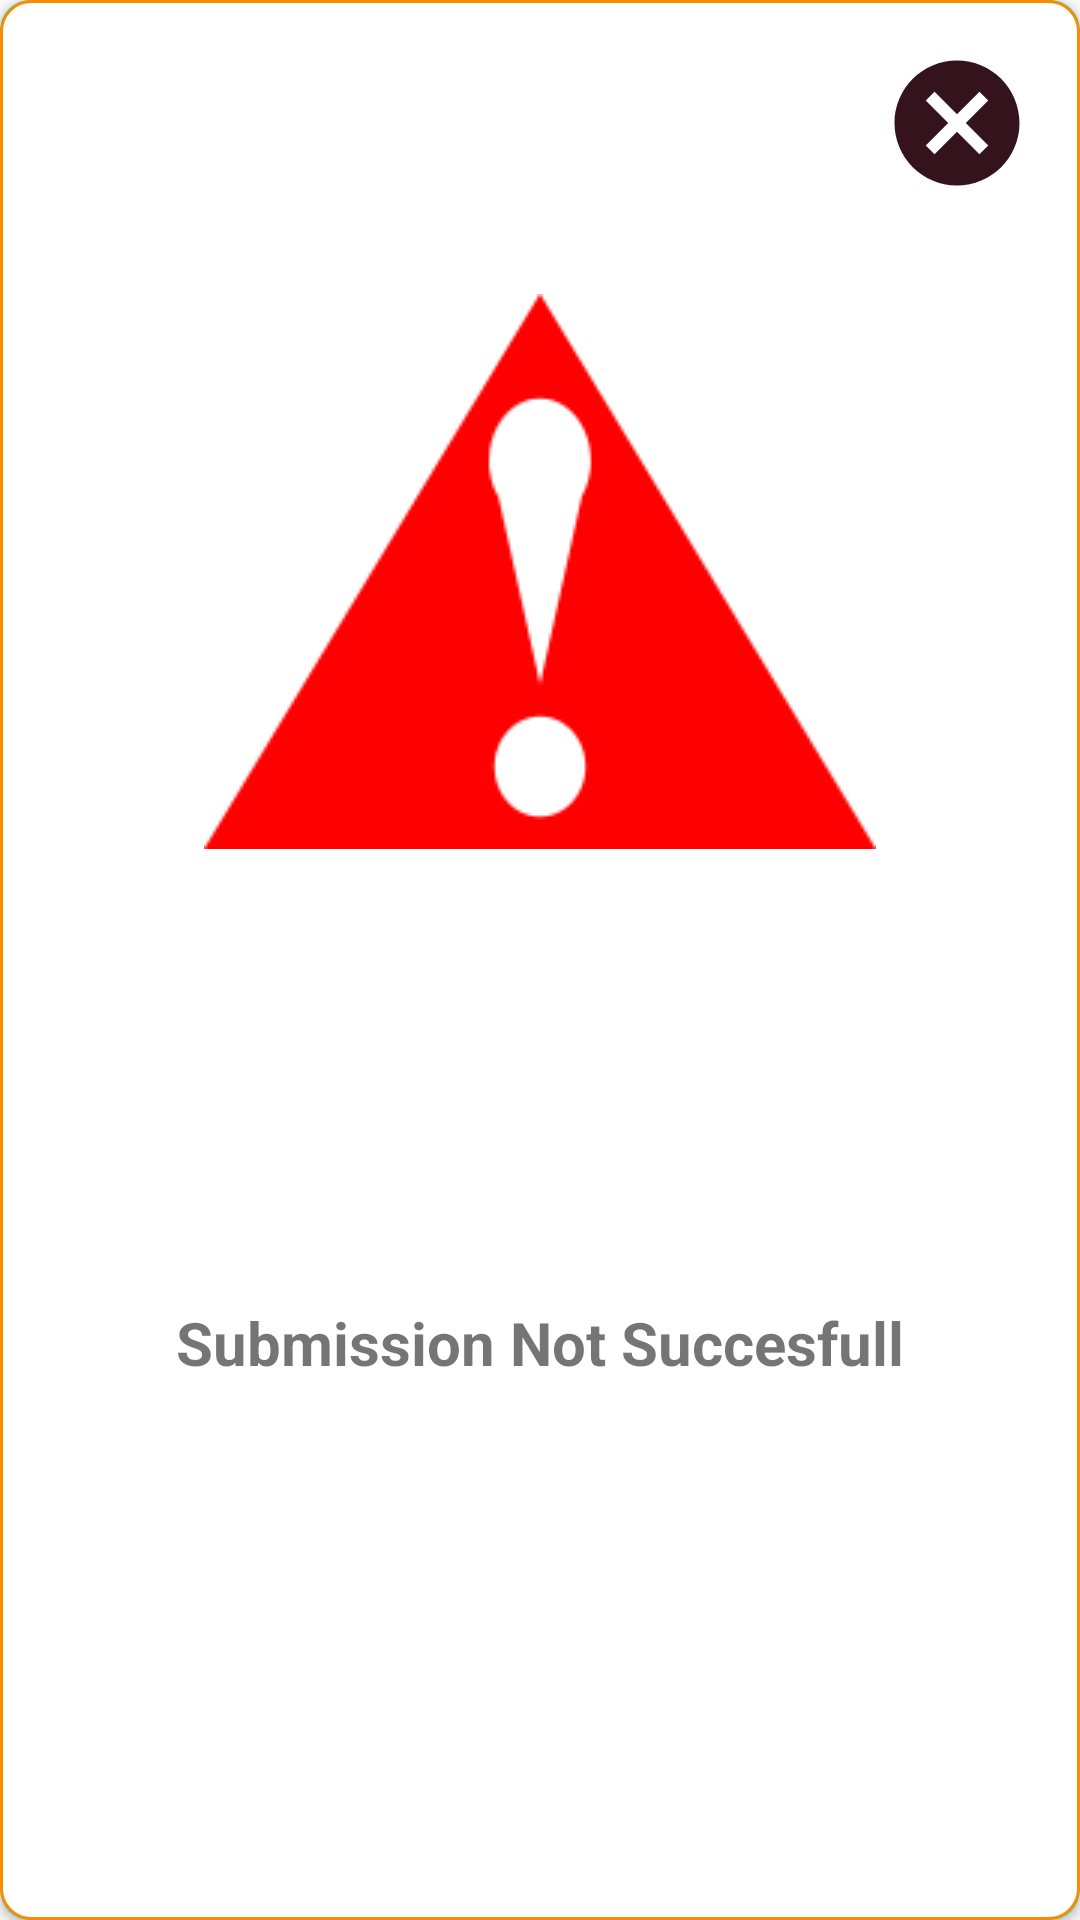

Icons on this 1080w x 1920h Android screen, each with its box as (x1, y1, x2, y2):
cancel: (894, 60, 1020, 186)
